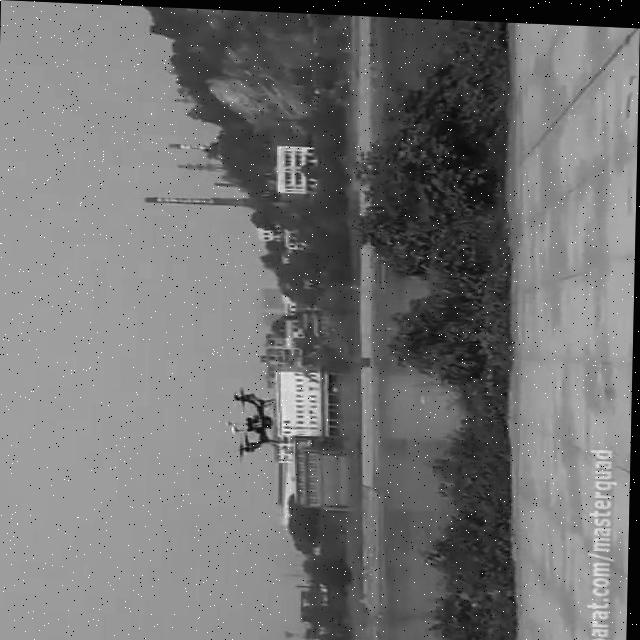drone: (216, 382, 283, 466)
